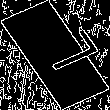L_SW: (18, 29, 92, 81)
